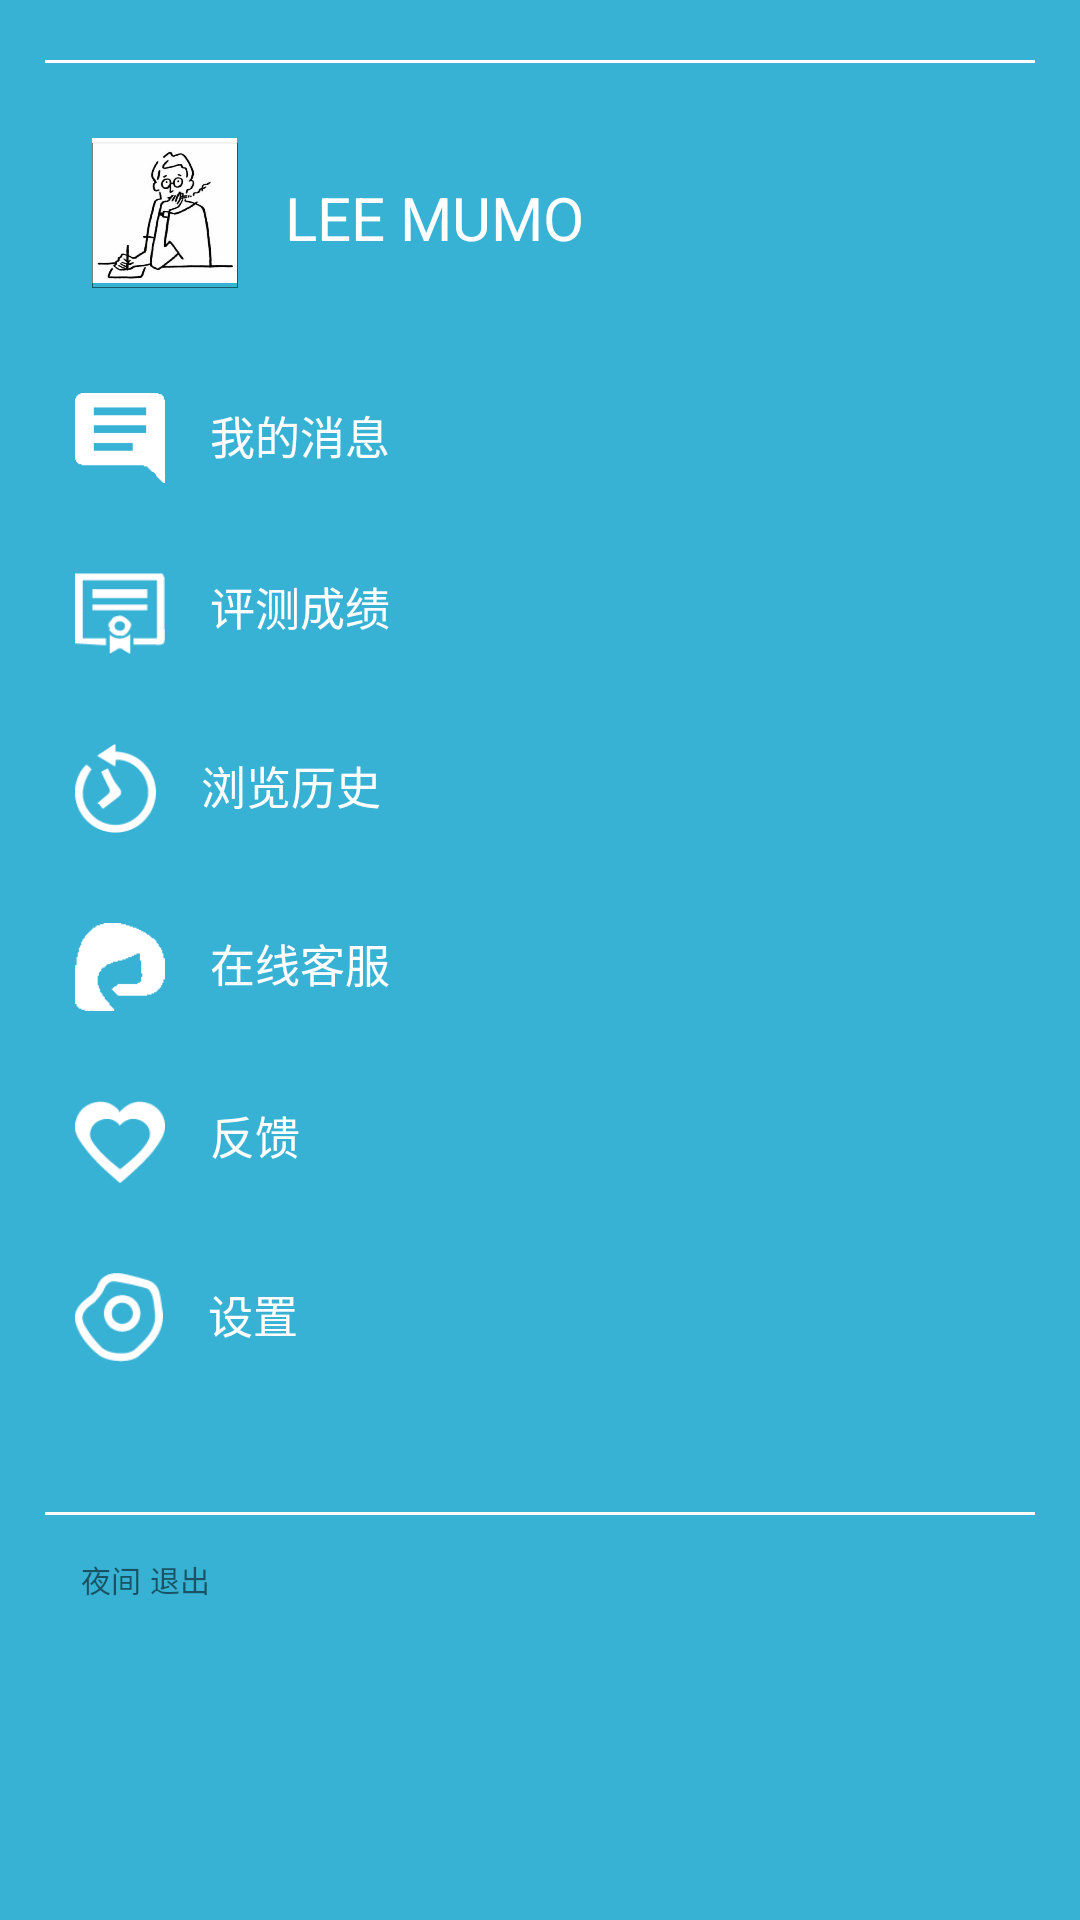

Icon bounding boxes for this 1080×1920 phone screenshot, format bbox=(x1, y1, x2, y2):
lishi: bbox=(75, 744, 156, 833)
mymessage: bbox=(75, 393, 165, 483)
result: bbox=(75, 573, 165, 654)
setting: bbox=(75, 1273, 163, 1362)
